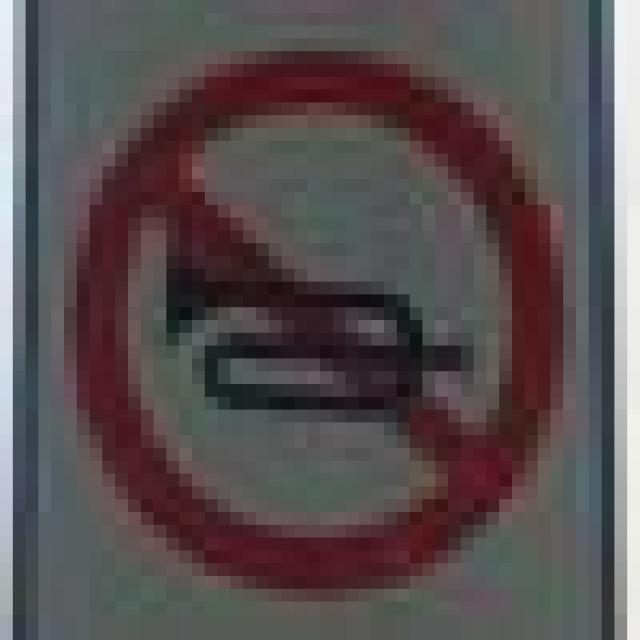HORN_PROHIBITED: (51, 38, 563, 589)
